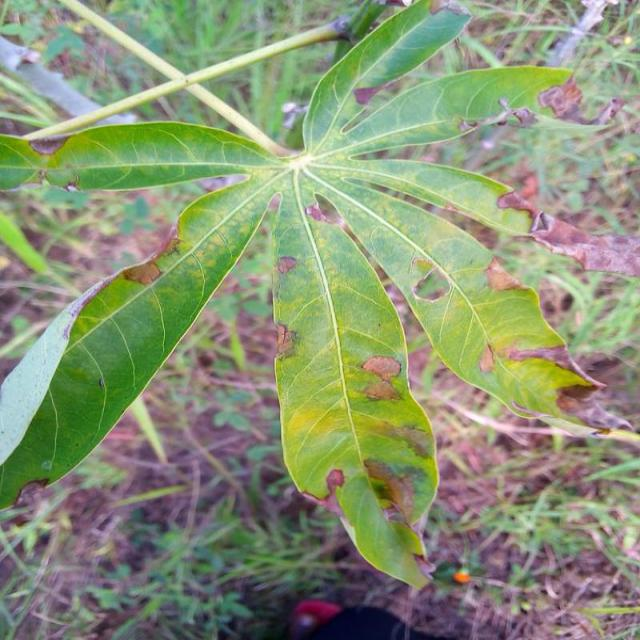cassava leaf: (2, 0, 607, 591), (1, 165, 282, 511), (270, 169, 441, 590)
